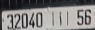0: (36, 11, 43, 28), (22, 12, 28, 29)
2: (15, 13, 21, 30)
3: (6, 13, 13, 30)
4: (29, 12, 35, 29)
5: (76, 9, 84, 25)
6: (84, 8, 92, 25)
a: (59, 9, 63, 27)
